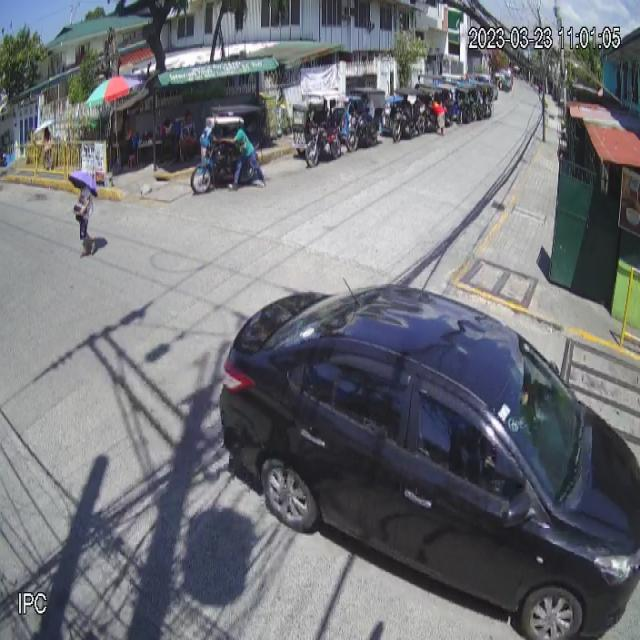Car: (214, 283, 640, 640)
